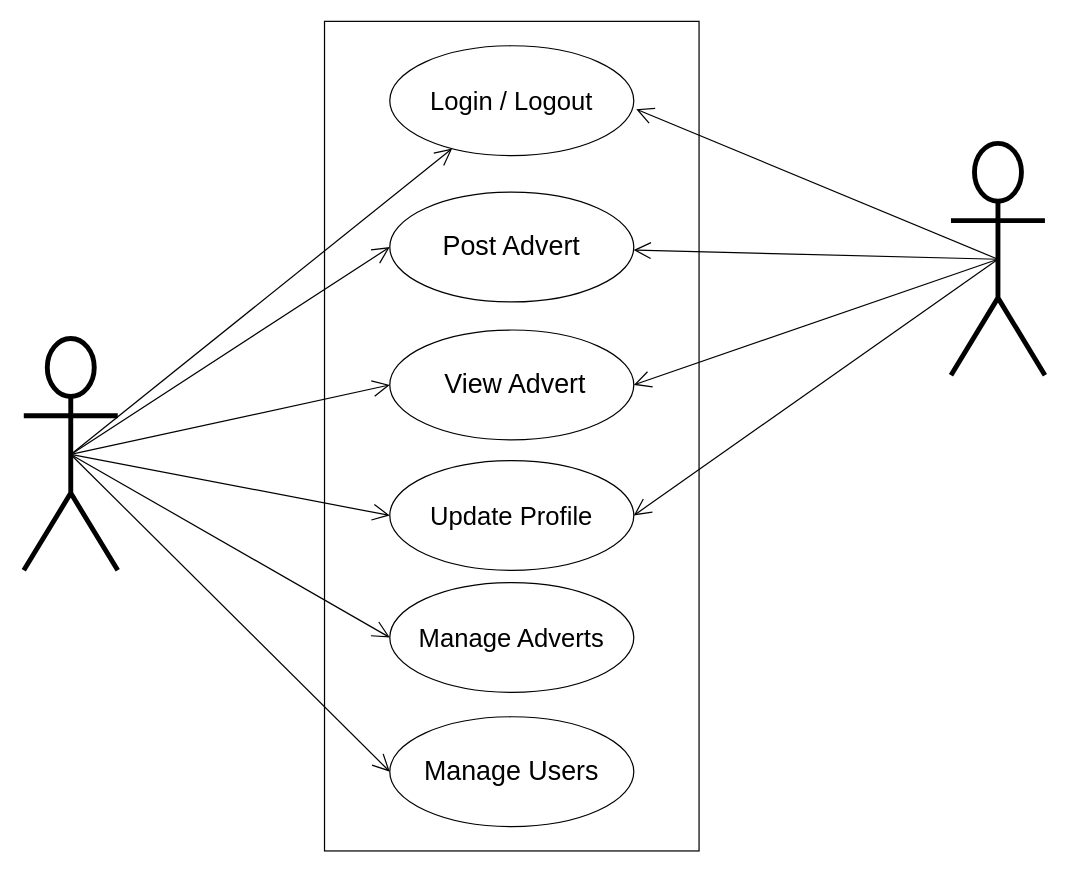
Some shapes in this 1068 by 872 pixel diagram are drawn without their labels. The shapes that lost their labels are listed below. From the top down, each one's box as (x1, y1, x2, y2) in pixels, then its label:
(948, 140, 1047, 377): Users
(21, 336, 120, 572): Admin
